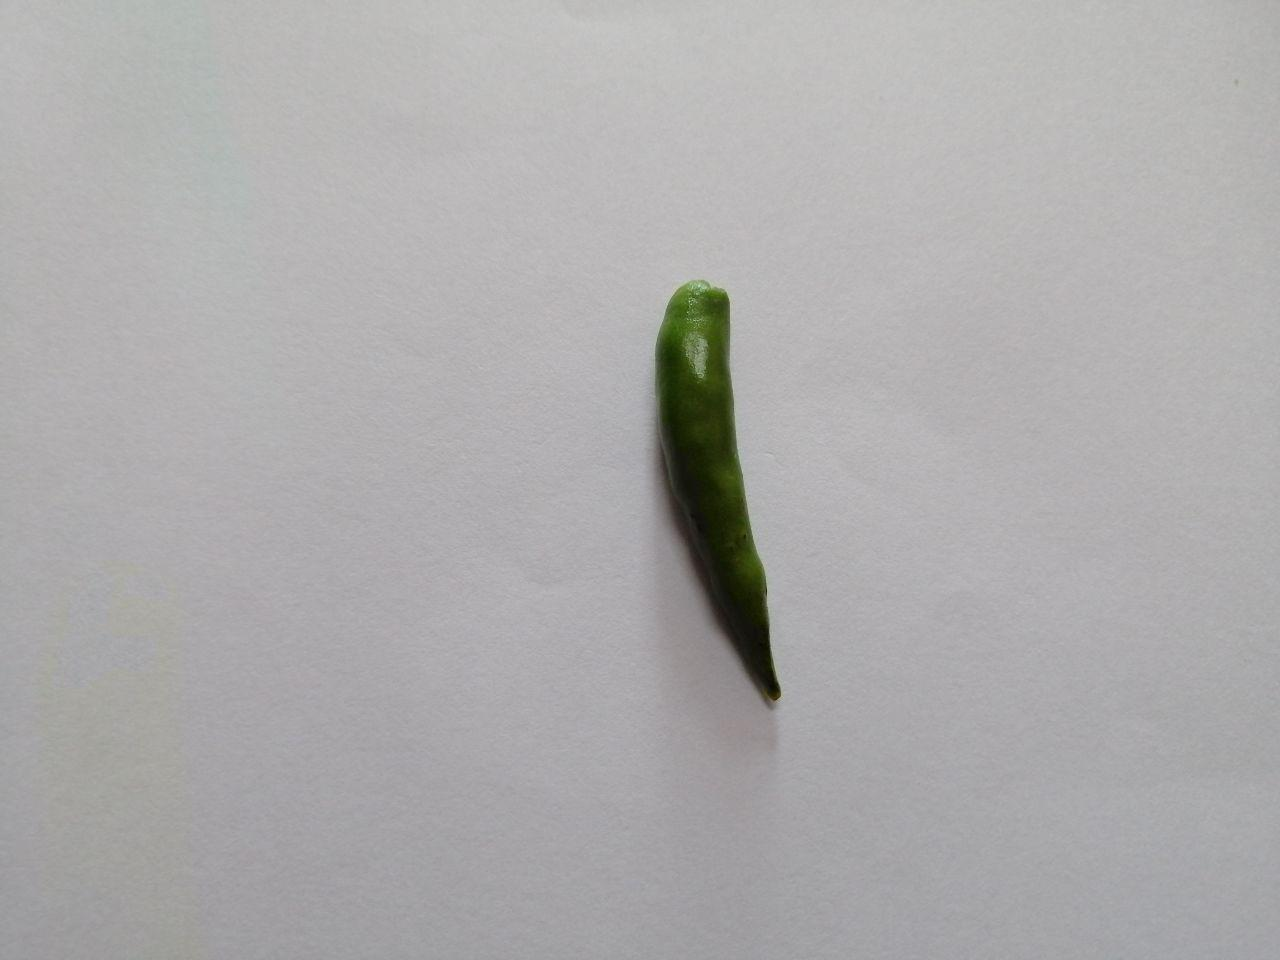lada hijau: (635, 269, 830, 731)
